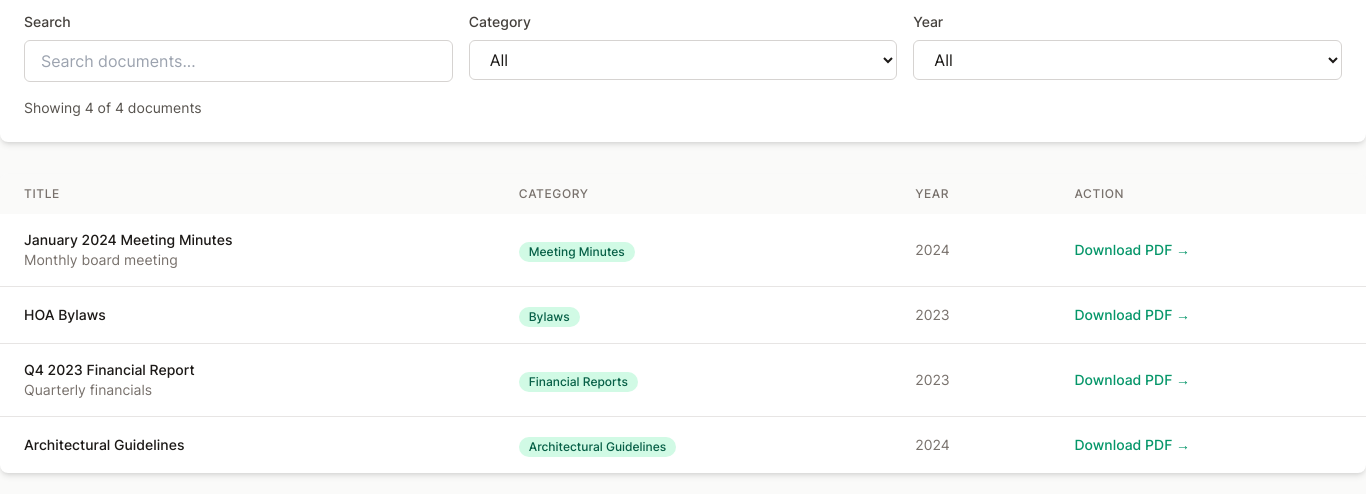
it: DocumentsFilter › should filter documents by category
Step 1. Select "Meeting Minutes" in the dropdown with test id "category-filter" → (683, 60), box [469,40,897,80]
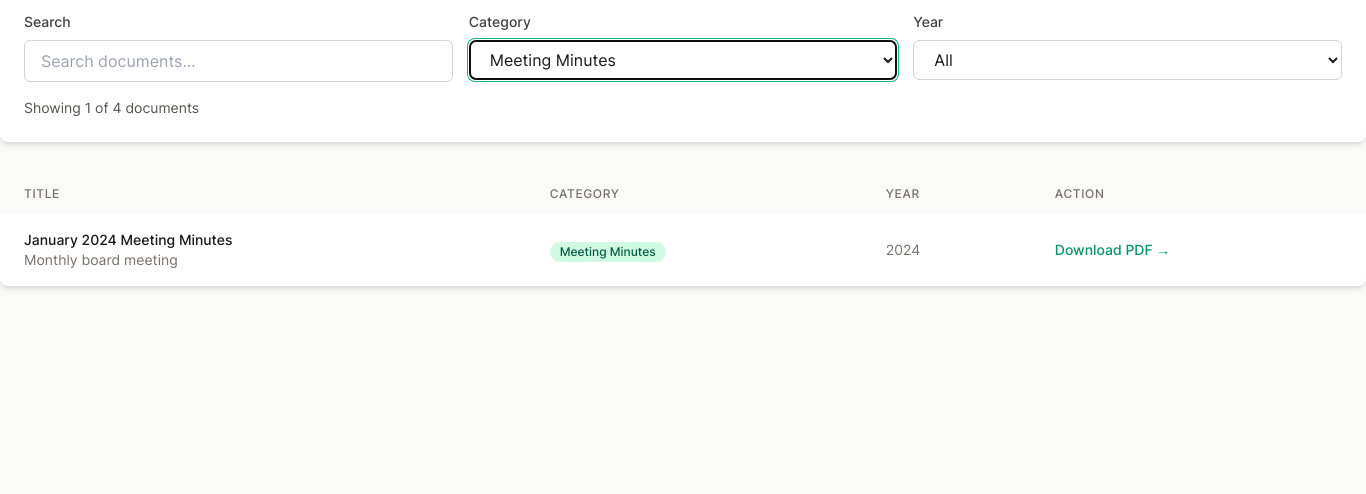
Check: the text "January 2024 Meeting Minutes" is shown, box [24,231,232,248]
Check: the text "HOA Bylaws" is gone
Check: the text "Showing 1 of 4 documents" is shown, box [24,99,199,116]
